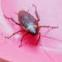cockroach: (16, 10, 40, 38)
